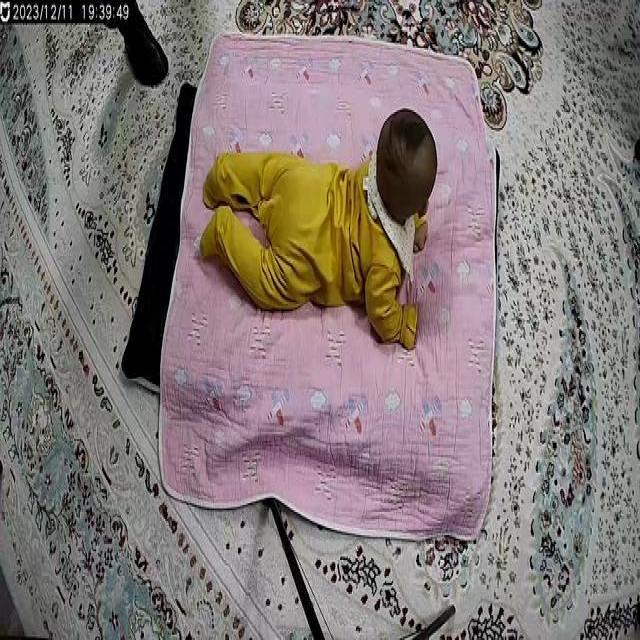baby: (200, 104, 444, 354)
